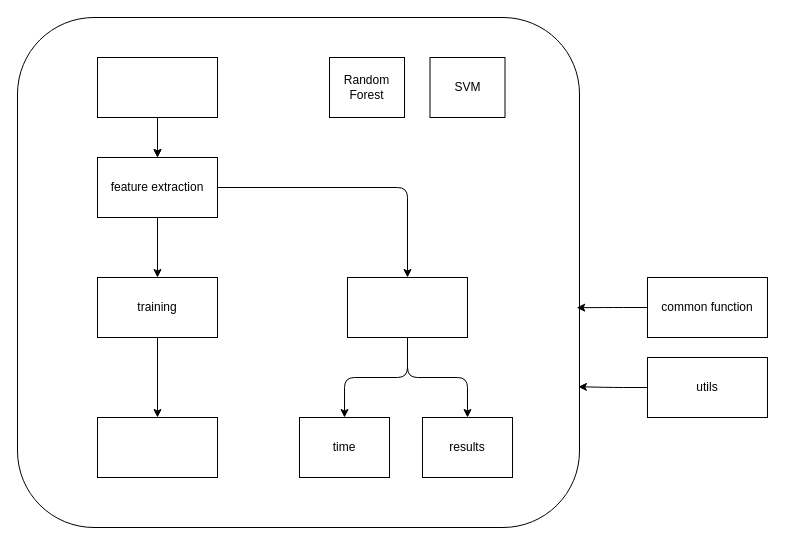
Image size: 785x545. Some labels were removed from this diagram. Each missing label, with the centre of its shape:
"image processing" goes at point 157,87.
"performance" goes at point 157,447.
"prediction" goes at point 407,307.
